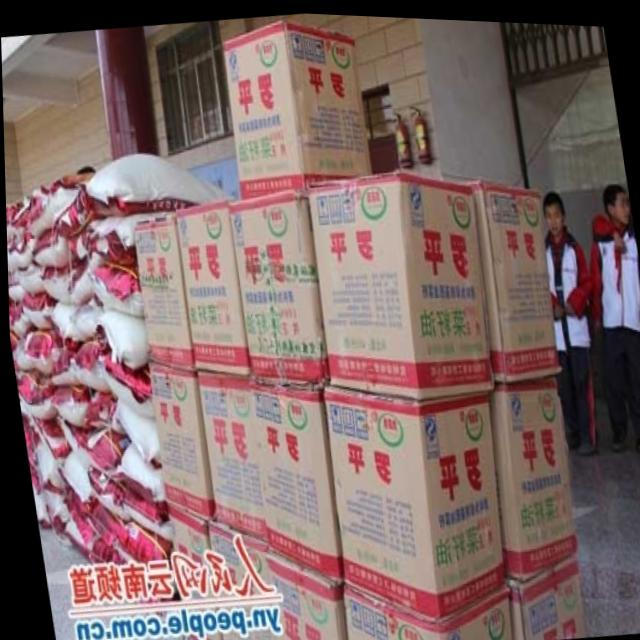box: (320, 381, 502, 619), (304, 168, 493, 395), (222, 16, 371, 196), (453, 175, 559, 378), (226, 187, 327, 387), (246, 377, 339, 580), (486, 371, 573, 577), (173, 199, 248, 374), (194, 371, 261, 542), (147, 361, 212, 520), (340, 582, 511, 640), (131, 211, 193, 369), (205, 519, 269, 640), (162, 501, 217, 640), (262, 547, 343, 640), (506, 551, 584, 638)
